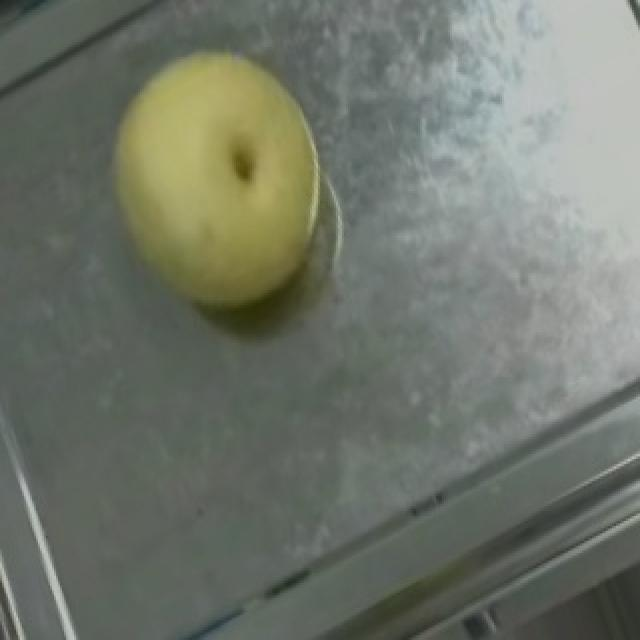Fruit: (60, 12, 368, 350)
